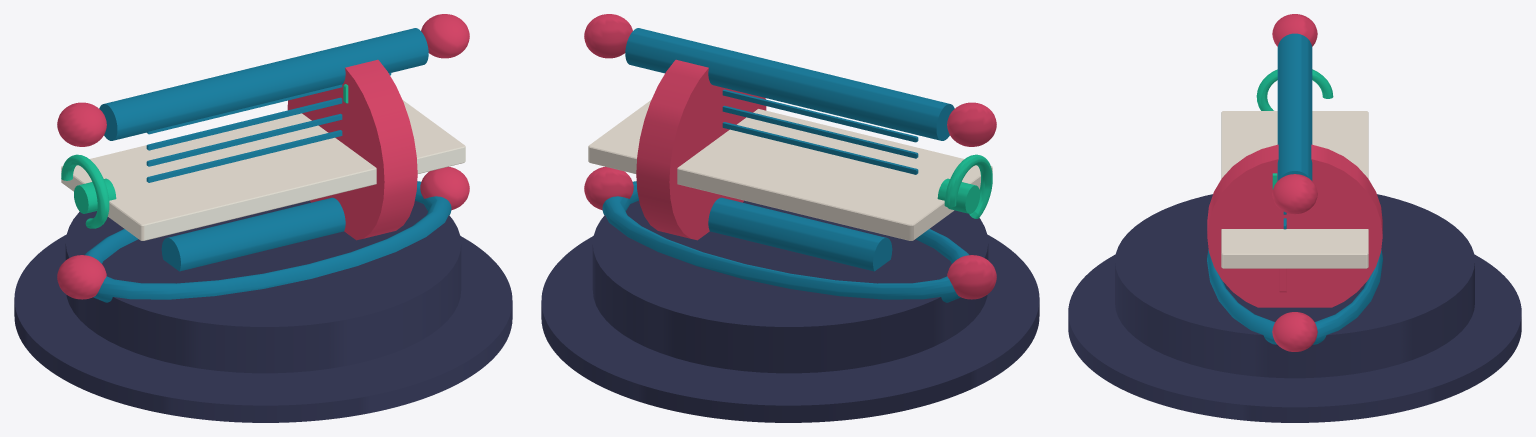
Rendered from 0869_生活中的数学图鉴_科赫曲线.glb.
3 renders of one model, left to right at view 1: azimuth 30°, elevation 25°; view 2: azimuth 150°, elevation 25°; view 3: azimuth 270°, elevation 25°, orthographic. The views are drawn at different scales.
Parts seen in each view (by area): view 1: card_0869; view 2: card_0869; view 3: card_0869.
Part boxes in pixels (x1=…): card_0869: x1=14, y1=14, x2=512, y2=422; card_0869: x1=541, y1=14, x2=1039, y2=422; card_0869: x1=1068, y1=14, x2=1521, y2=422.
Bounding box in the file's own units: 1.76 × 1 × 1.77.
